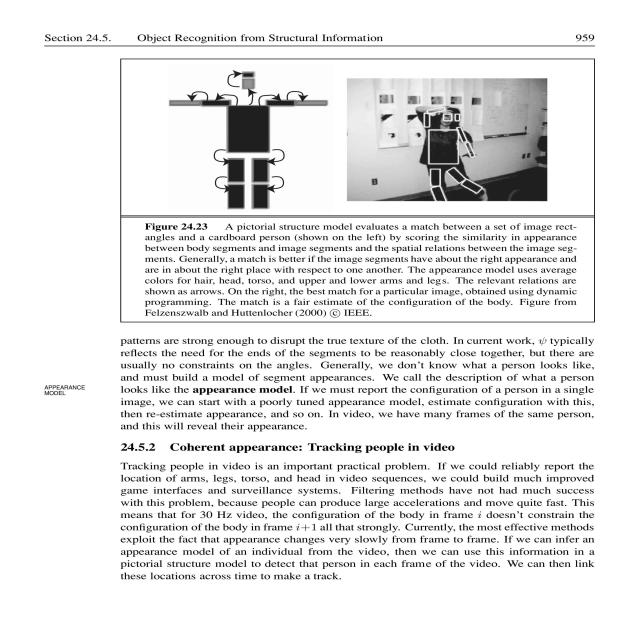diagram: (99, 55, 617, 336)
